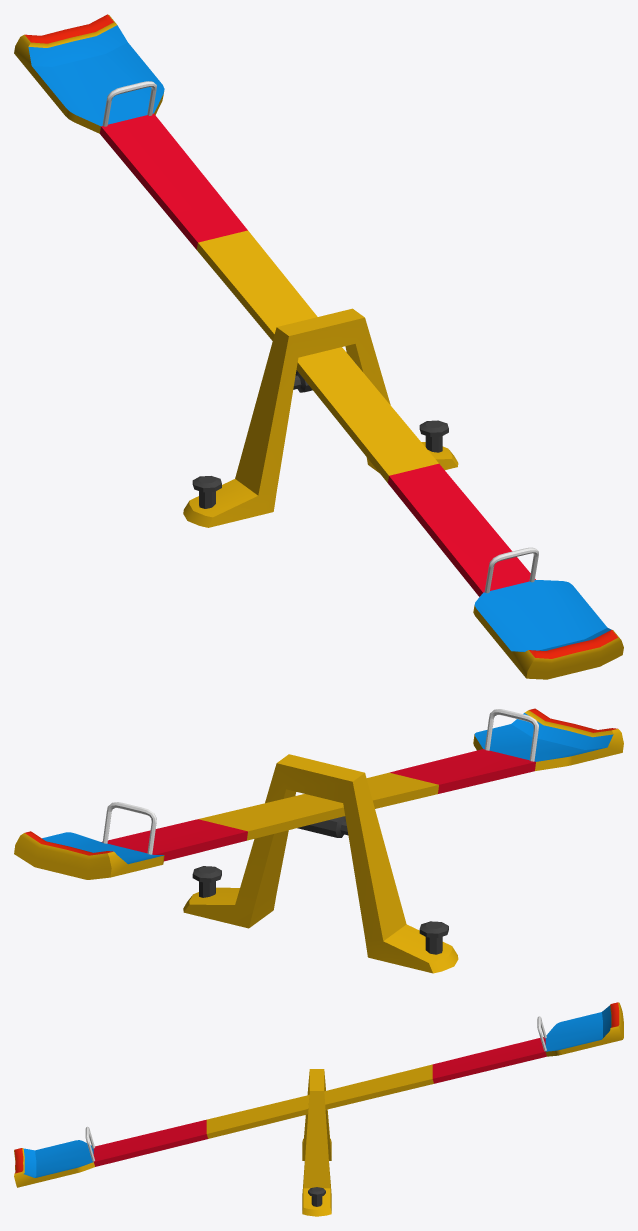
The model's file is Parent_Run_Seesaw.fbx.
The picture shows the model from 3 angles, top to bottom: view 1: azimuth 30°, elevation 25°; view 2: azimuth 150°, elevation 25°; view 3: azimuth 270°, elevation 25°; orthographic projection. The views are drawn at different scales.
Parts seen in each view (by area): view 1: Seesaw; view 2: Seesaw; view 3: Seesaw.
Boxes of the visible parts, <box> form: Seesaw: <box>14,14,623,679</box>; Seesaw: <box>14,708,623,973</box>; Seesaw: <box>14,1002,623,1216</box>.
Bounding box in the file's own units: 141 × 140 × 473.
